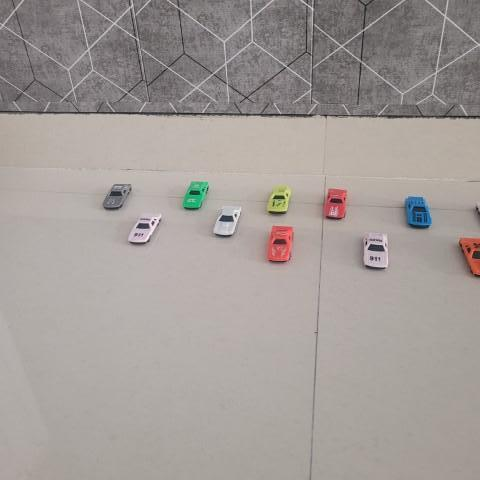car: (359, 229, 394, 274), (263, 224, 299, 265), (128, 211, 165, 250), (211, 203, 246, 238), (403, 191, 434, 230), (99, 179, 134, 210), (323, 184, 349, 221), (182, 181, 212, 211), (267, 183, 293, 213)
